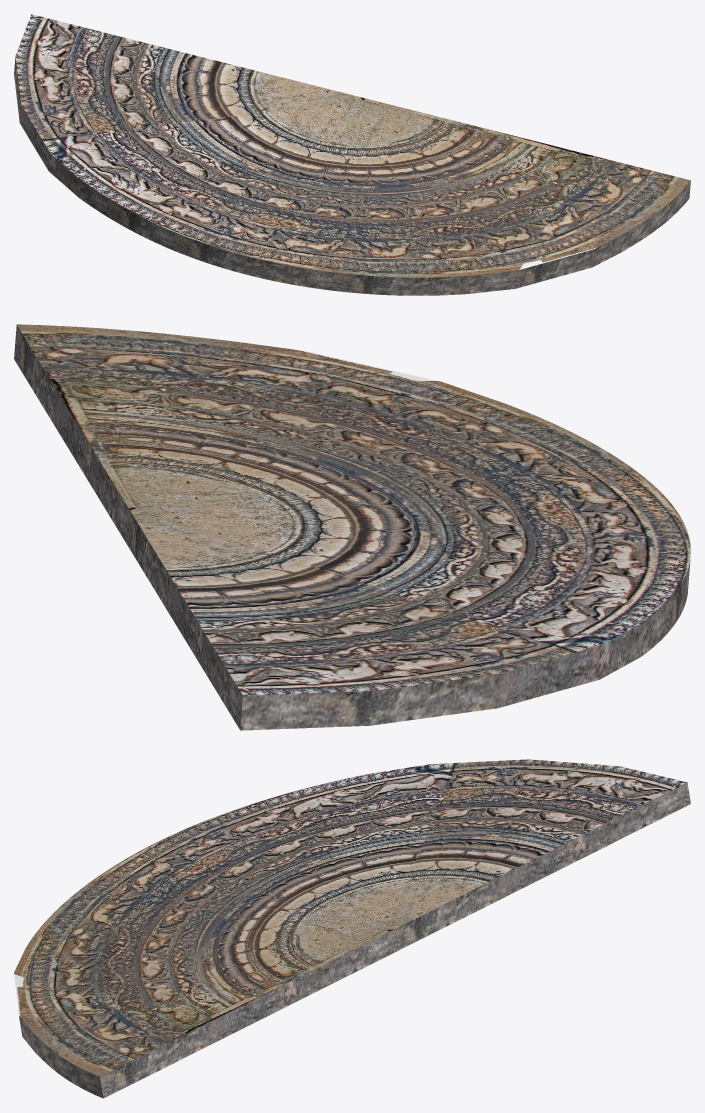
The model's file is SandakadaPahana.glb.
3 views of the same model, one above another, from view 1: azimuth 30°, elevation 25°; view 2: azimuth 150°, elevation 25°; view 3: azimuth 270°, elevation 25° (orthographic). The views are drawn at different scales.
Parts seen in each view (by area): view 1: mesh_id7, mesh_id8; view 2: mesh_id7, mesh_id8; view 3: mesh_id7, mesh_id8.
Part boxes in pixels (x1,y1,x2,y2): mesh_id7: (15, 14, 690, 277); mesh_id8: (14, 57, 690, 295); mesh_id7: (17, 324, 690, 695); mesh_id8: (14, 325, 690, 730); mesh_id7: (14, 759, 686, 1076); mesh_id8: (19, 782, 690, 1098).
Size of the model in its own units: 0.4154 by 0.0805 by 0.4423.
2 materials, 2 textured.
